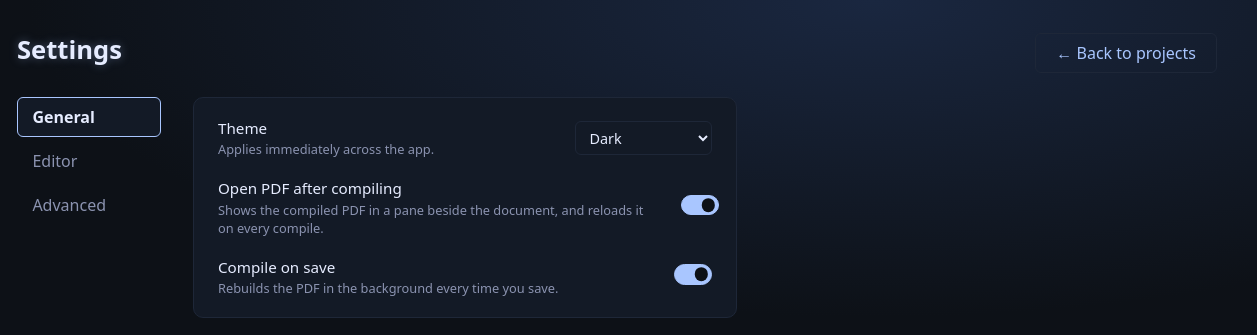
Test: Settings › advanced › names the keyboard shortcut readably
The width and height of the screenshot is (1257, 335).
Step 1. Click the tab "Advanced" → (89, 205), box 17,185 -> 161,225
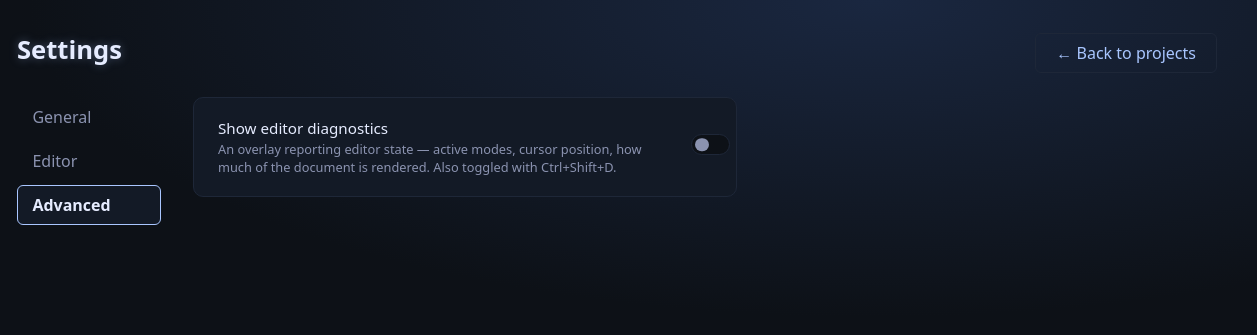
Now the text "Ctrl+Shift+D" is shown, box 218,140 -> 642,176
